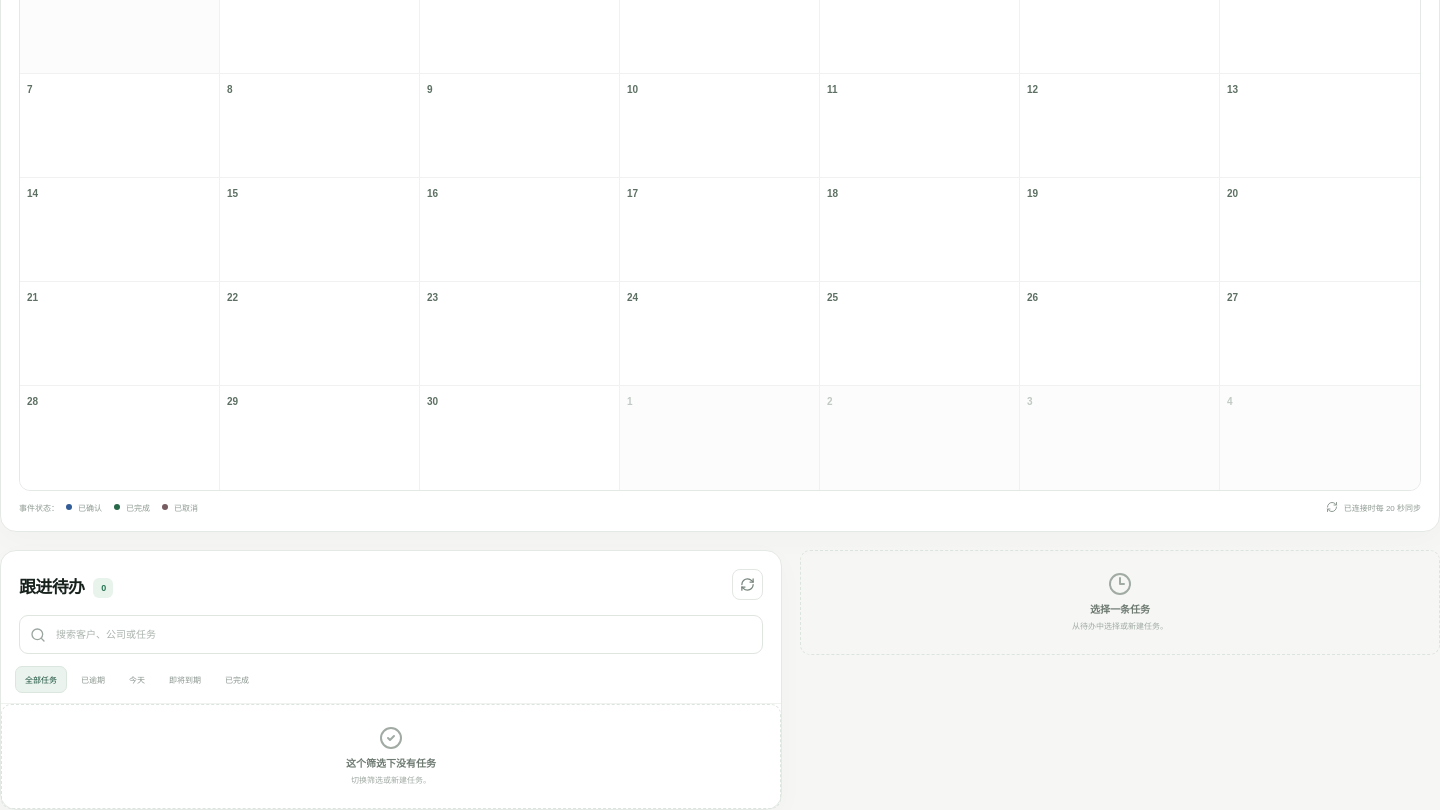
it: FollowupView collaboration calendar › adds a new meeting to the follow-up todo list even when its date is not today
(page scrolled)
Click the button "今天": click(137, 680) left=119, top=666, right=155, bottom=693
(page scrolled)
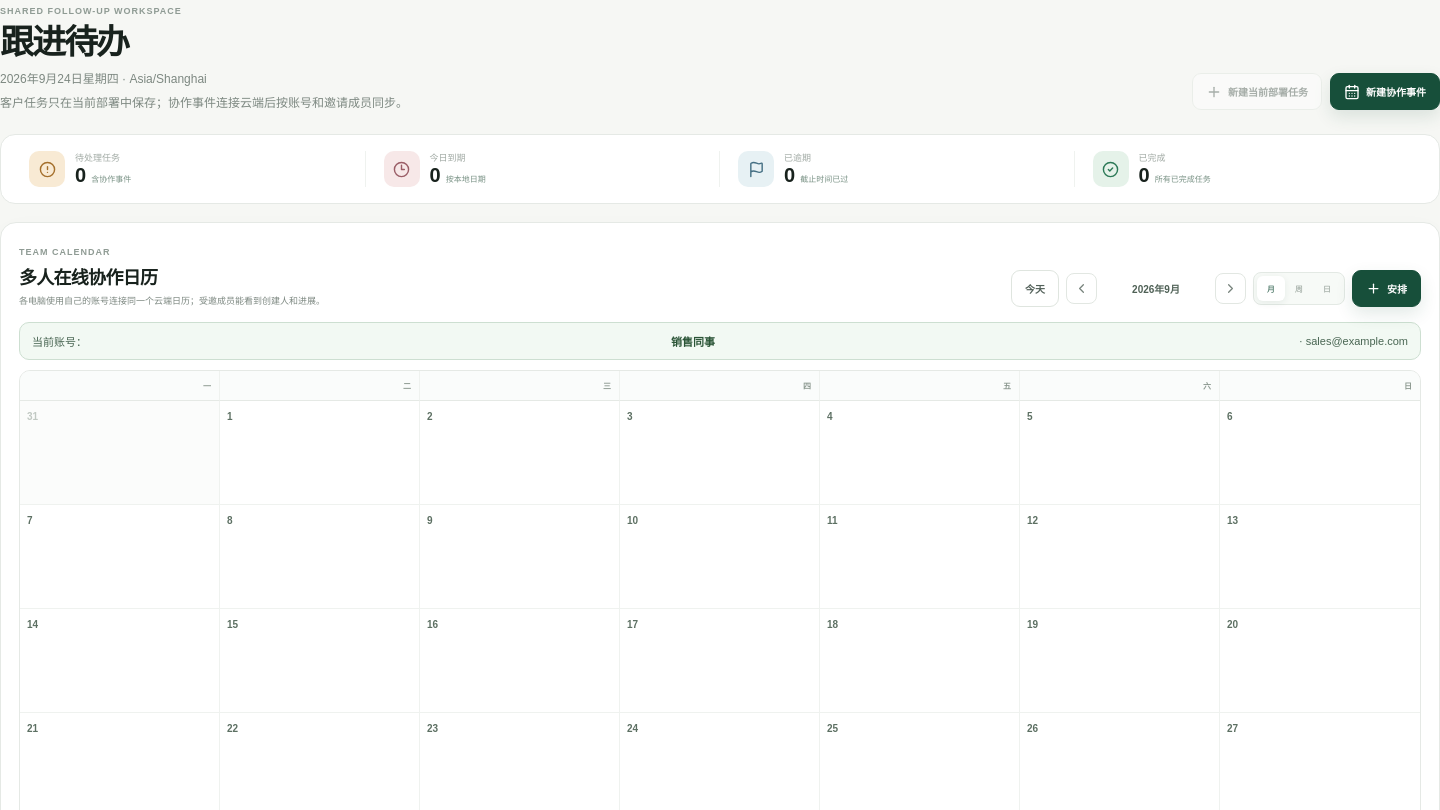
Click the button "新建协作事件": click(1385, 92) left=1330, top=73, right=1439, bottom=110
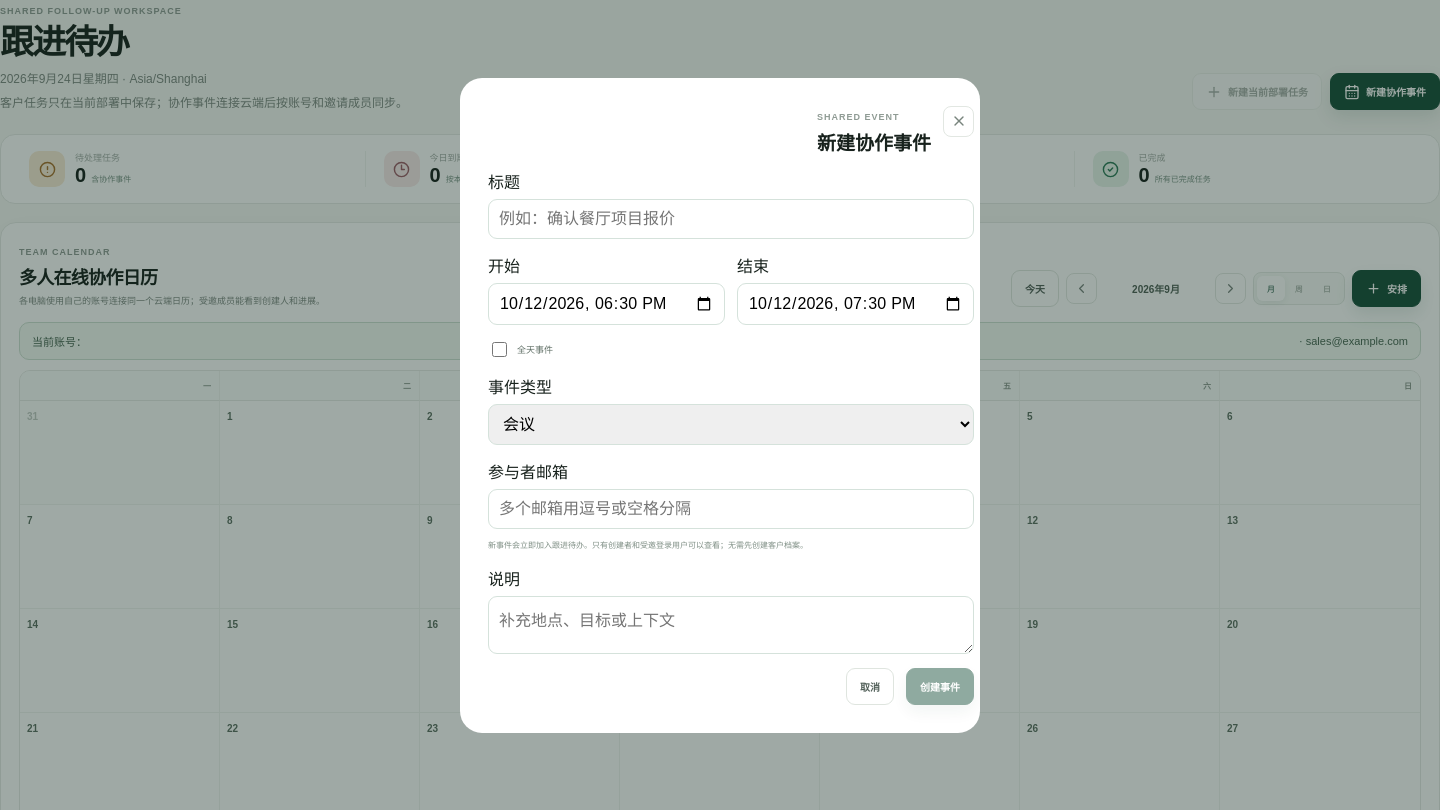
In the field labelled "标题": (731, 218) left=488, top=198, right=974, bottom=238, type "项目会议"
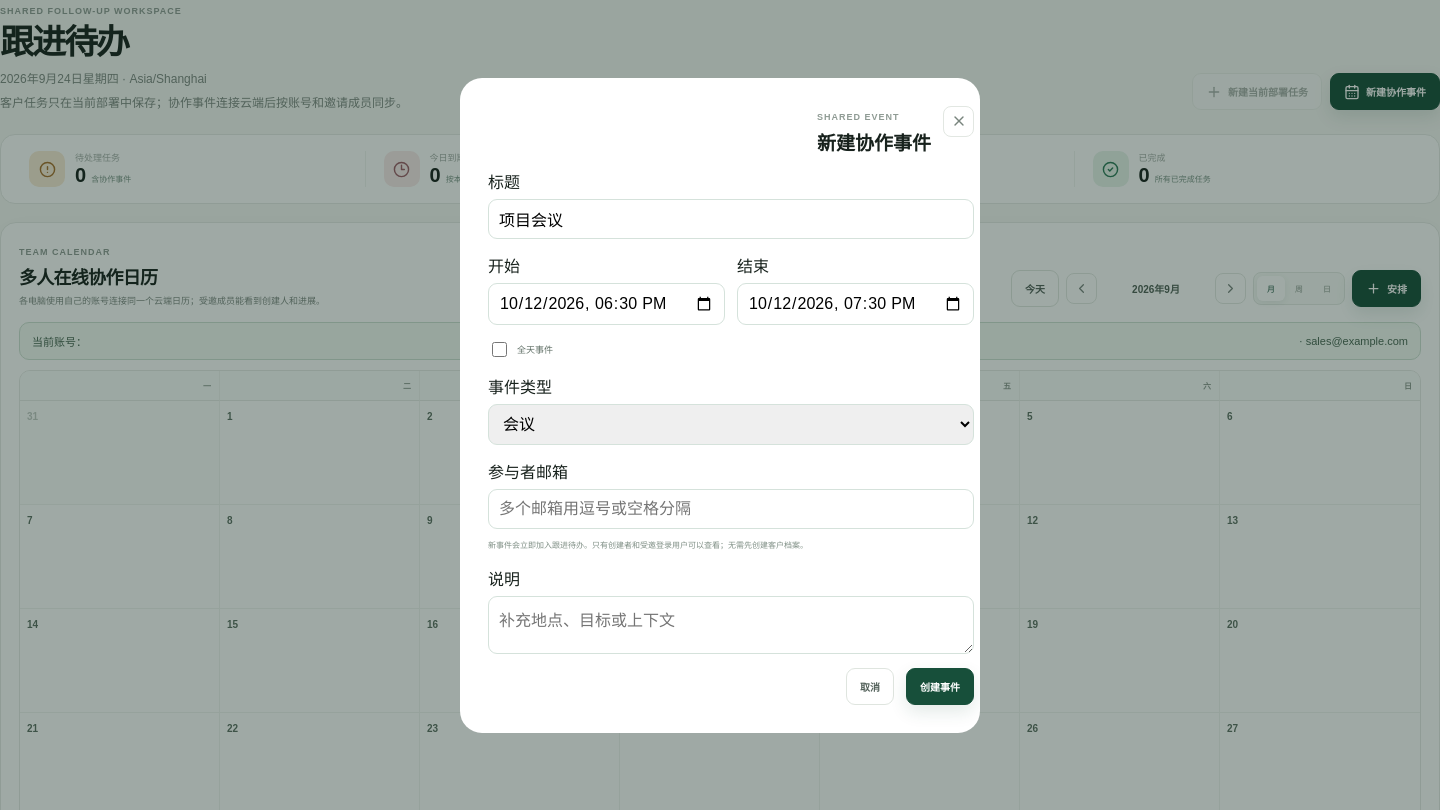
Replace the text in the field labelled "开始" with "2026-10-05T10:00": (606, 304) left=488, top=282, right=725, bottom=324
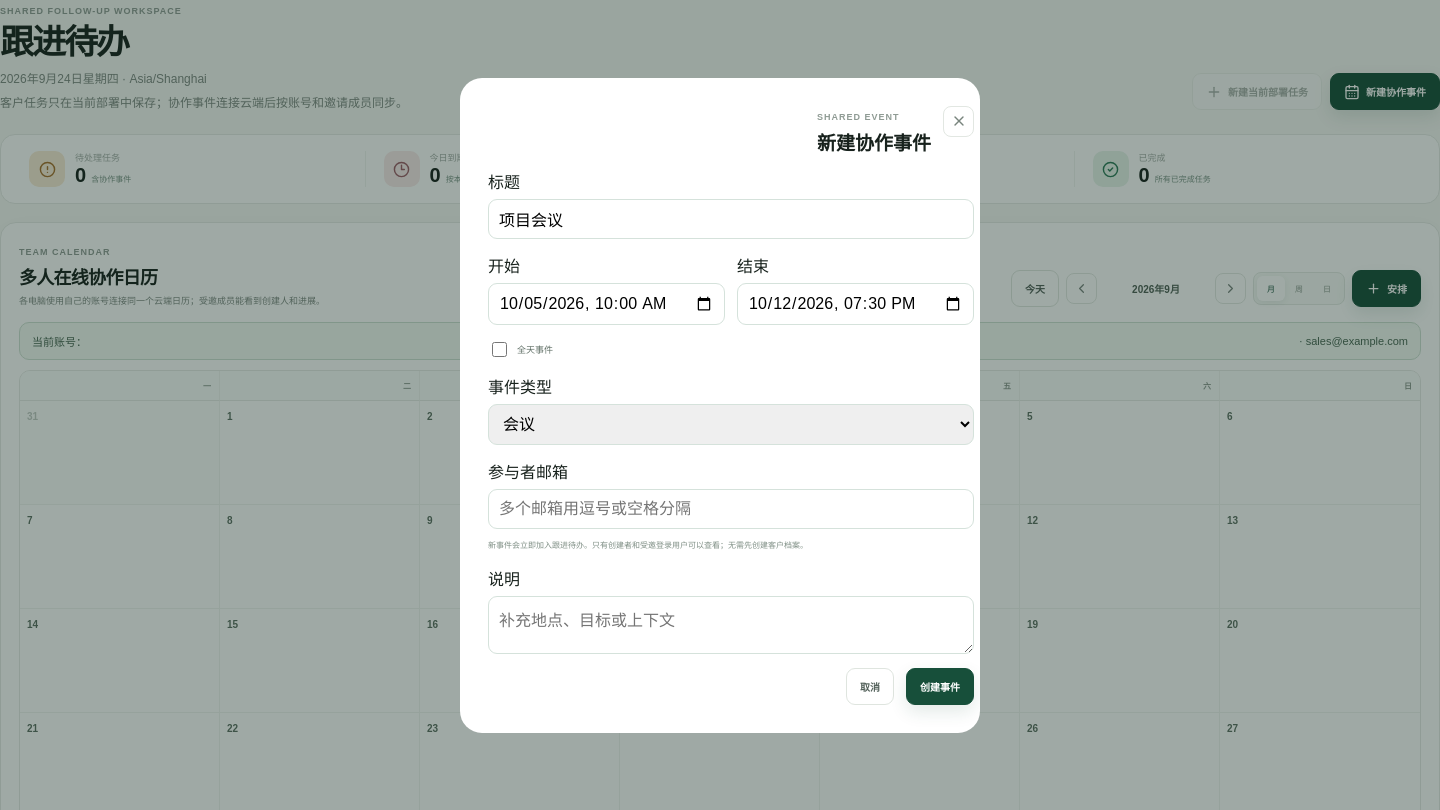
Replace the text in the field labelled "结束" with "2026-10-05T11:00": (856, 304) left=737, top=282, right=974, bottom=324
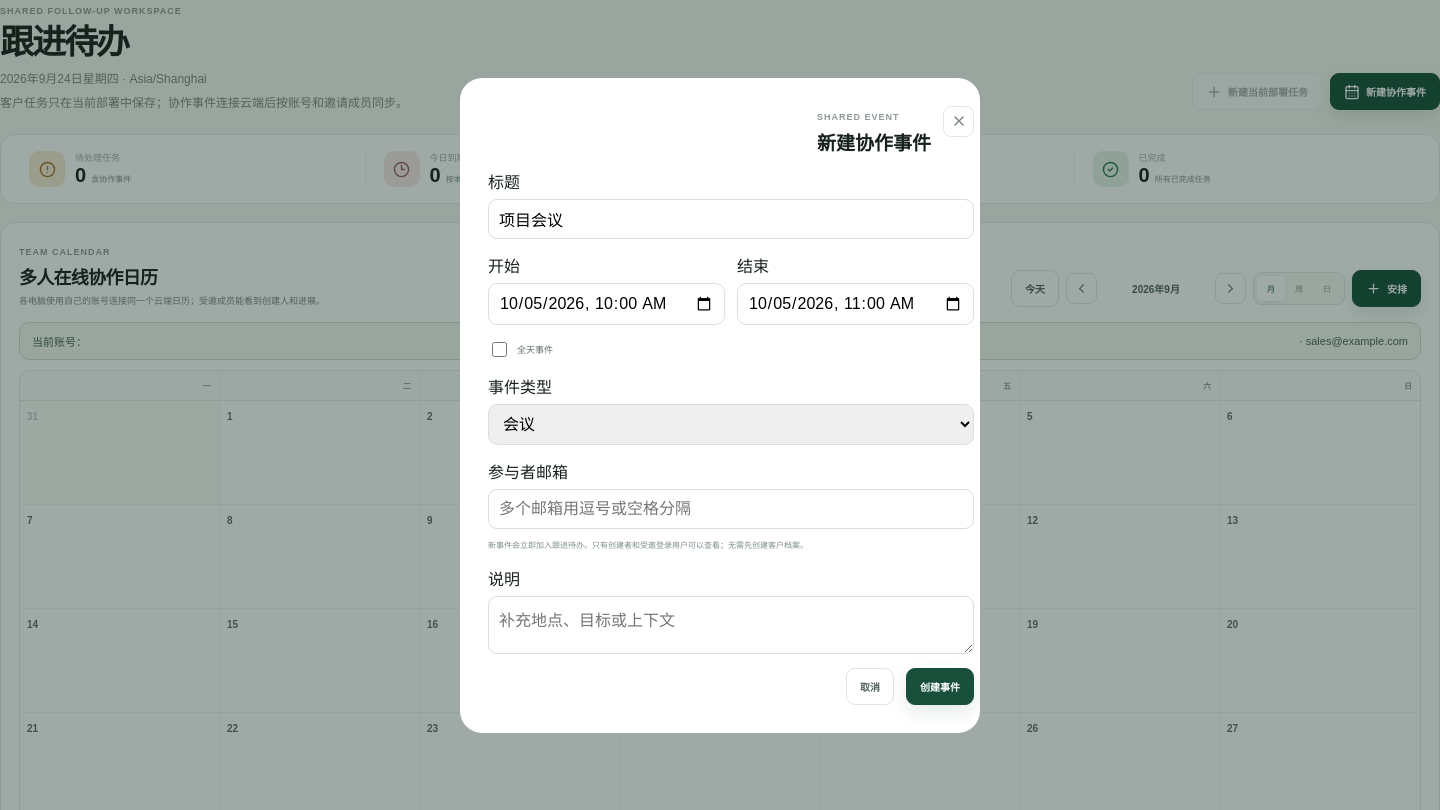
Click the button "创建事件": click(940, 686) left=906, top=668, right=974, bottom=704
(page scrolled)
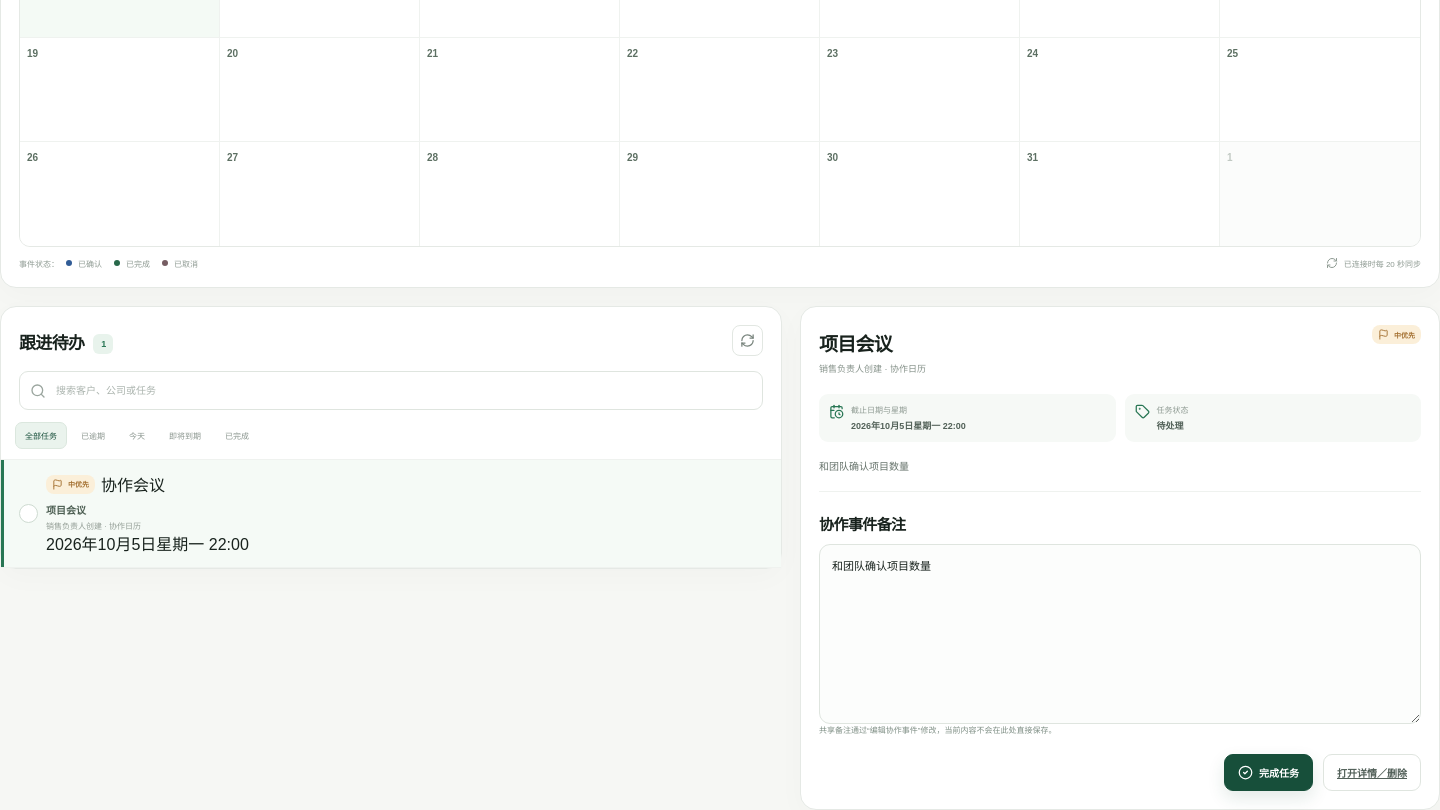
Now the button named "完成 项目会议" is shown, box left=19, top=504, right=38, bottom=523
Now the text "协作会议" is shown, box left=101, top=472, right=165, bottom=496
